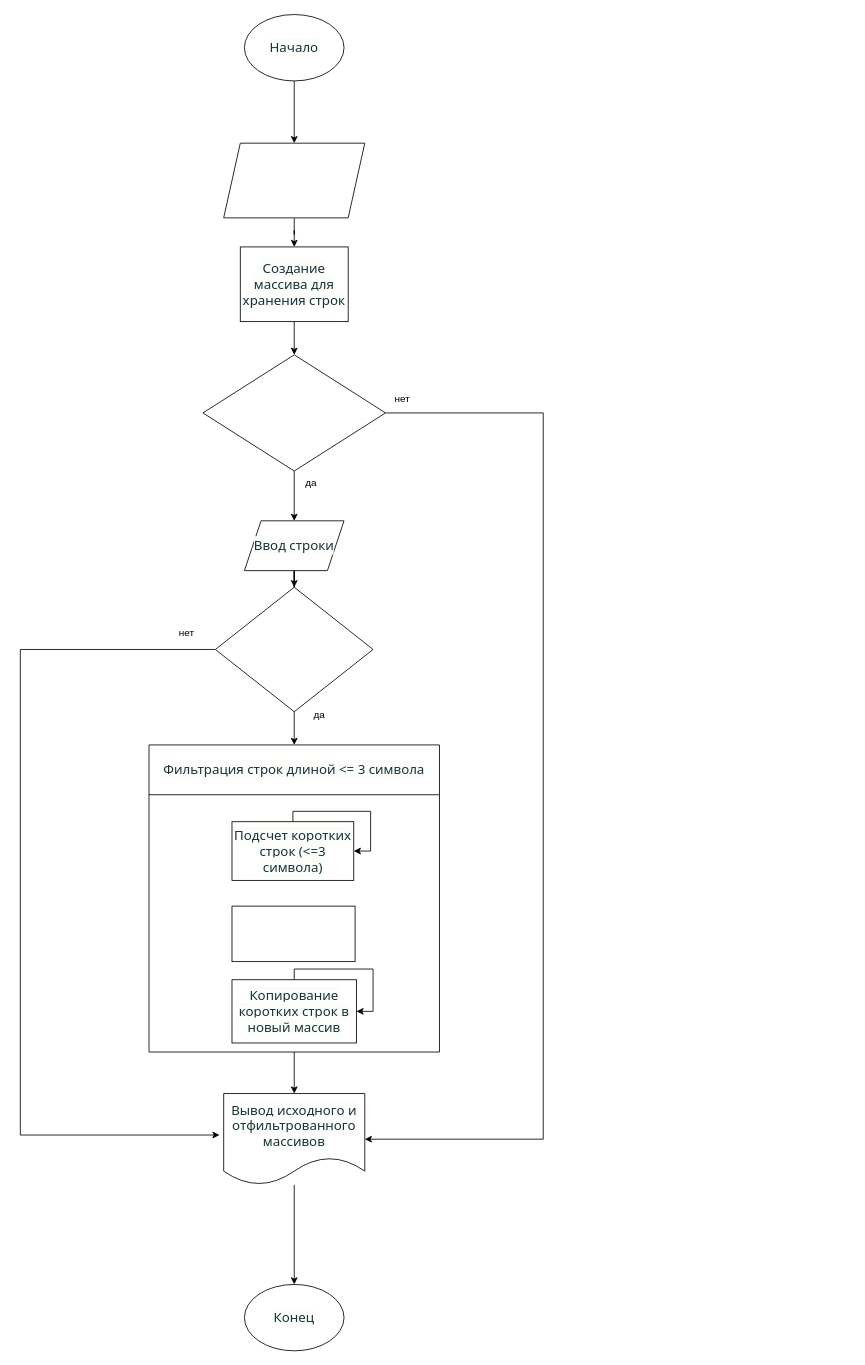
The diagram is 865 pixels wide and 1365 high, and some of its shapes have lost their labels. The shapes that lost their labels are listed below. From the top down, each one's box as (x1, y1, x2, y2) in pixels, then its label:
(223, 142, 365, 218): Ввод количества строк
(202, 354, 386, 471): i < количество строк
(215, 586, 373, 712): длина строки <= 3
(231, 905, 355, 962): Создание нового массива
